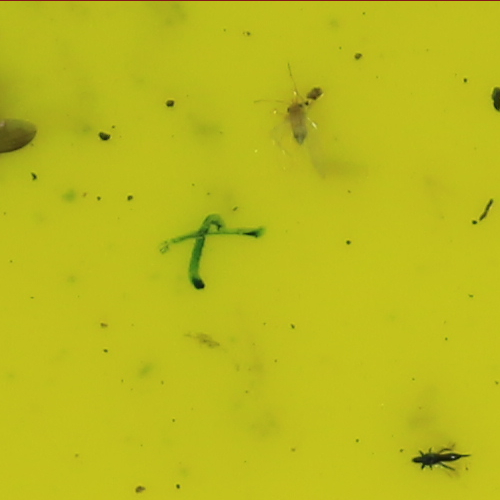psylla: (284, 99, 310, 144)
